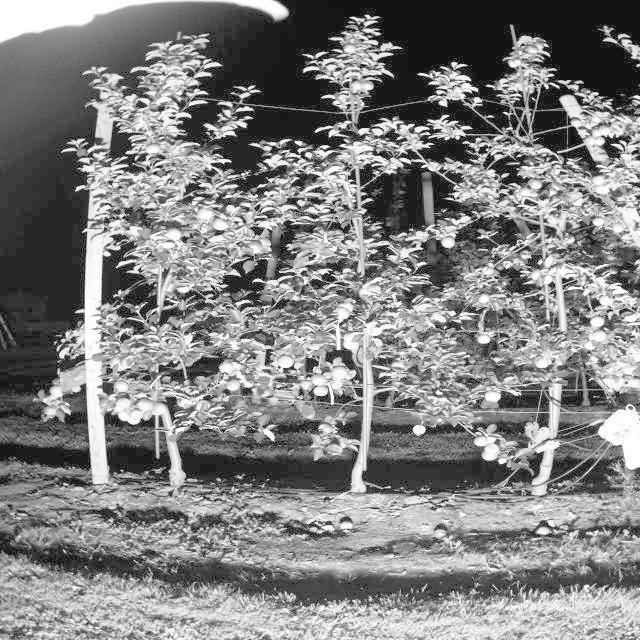Tree: (264, 13, 443, 496), (108, 31, 241, 486), (476, 35, 603, 490)
